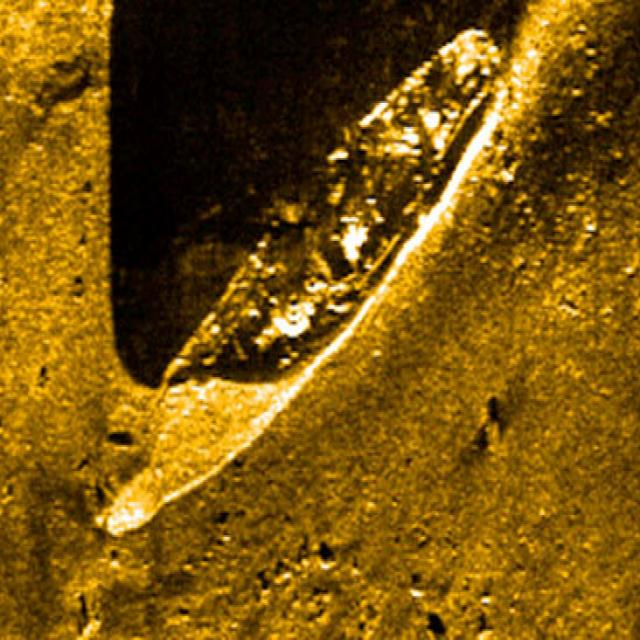ship: (96, 28, 502, 528)
